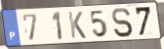1: (50, 11, 64, 42)
5: (90, 9, 109, 39)
7: (135, 6, 153, 38), (22, 13, 39, 42)
K: (67, 10, 87, 40)
S: (111, 7, 135, 39)
